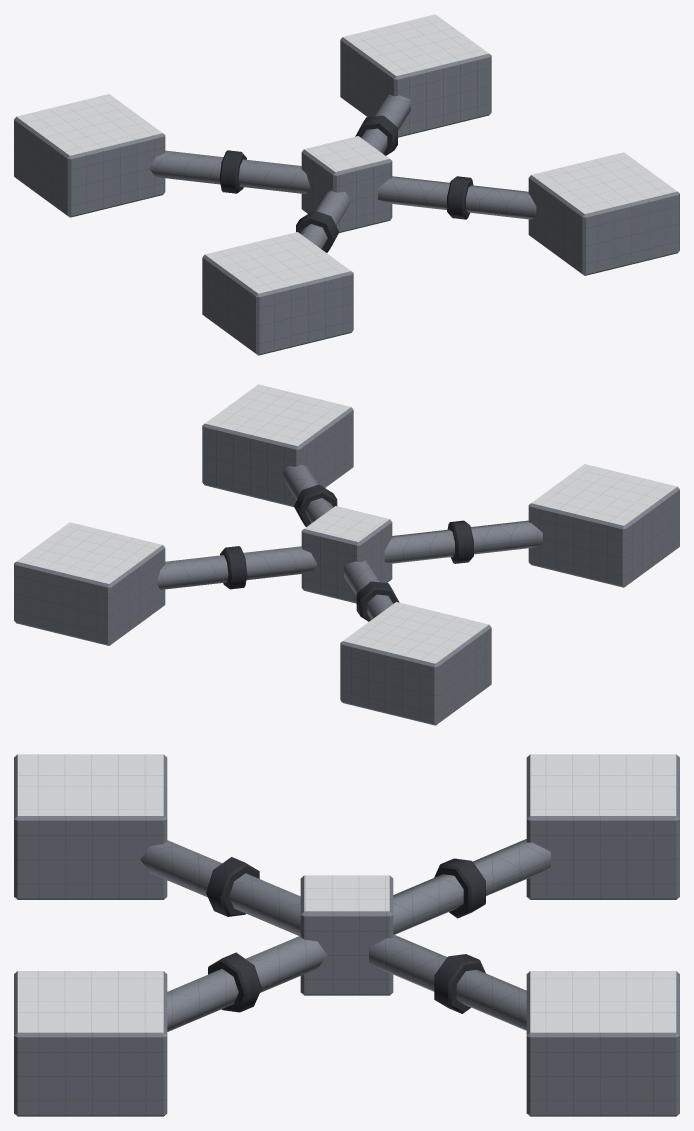
The model's file is R4C_ROD_CROSS_LOD1.glb.
3 views of the same model, one above another, from view 1: azimuth 30°, elevation 25°; view 2: azimuth 150°, elevation 25°; view 3: azimuth 270°, elevation 25° (orthographic). The views are drawn at different scales.
Parts seen in each view (by area): view 1: R4C_ROD_CROSS_LOD1; view 2: R4C_ROD_CROSS_LOD1; view 3: R4C_ROD_CROSS_LOD1.
Boxes of the visible parts, x1=… form: R4C_ROD_CROSS_LOD1: x1=14, y1=14, x2=679, y2=355; R4C_ROD_CROSS_LOD1: x1=14, y1=384, x2=679, y2=725; R4C_ROD_CROSS_LOD1: x1=14, y1=754, x2=679, y2=1116.
Size of the model in its own units: 1.62 by 0.226 by 1.62.
Materials: 3 (3 with a texture image).
